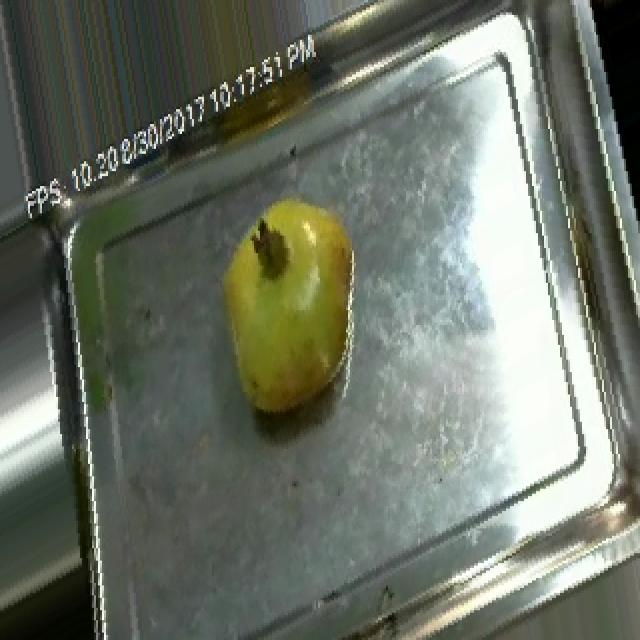fruit: (186, 171, 390, 437)
